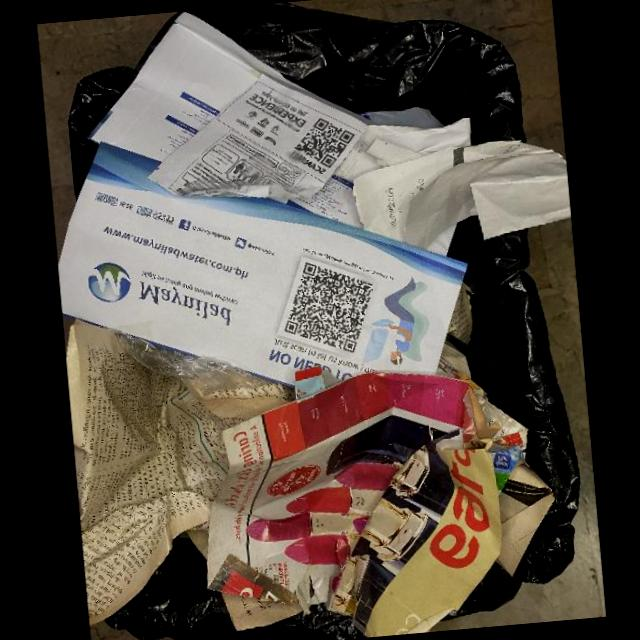giay: (58, 141, 467, 424), (208, 372, 502, 637), (66, 318, 298, 625), (86, 12, 284, 162), (146, 72, 367, 199), (353, 139, 571, 250)
tui_ni_long: (107, 325, 272, 397)
